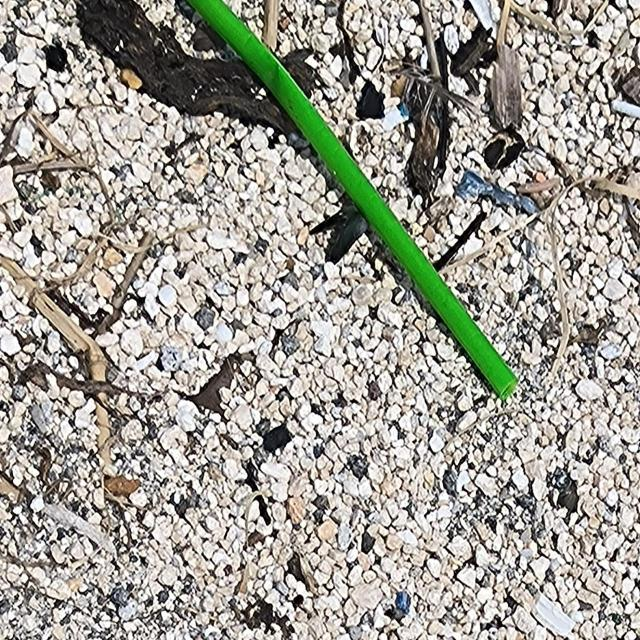plastic_waste: (186, 1, 521, 401)
